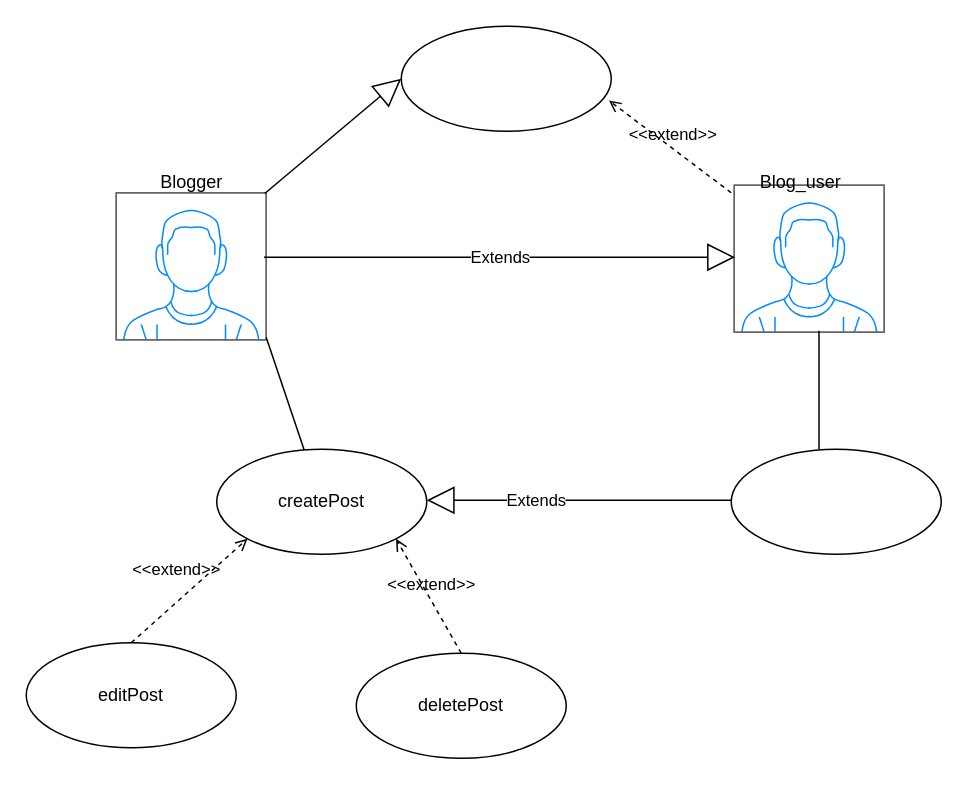
Image size: 968x785. Some labels were removed from this diagram. The shapes that lost their labels are listed below. From the top down, each one's centre as x and y in pixels, then its label:
At point 505,78: "reactToPost".
At point 835,501: "viewPost".
